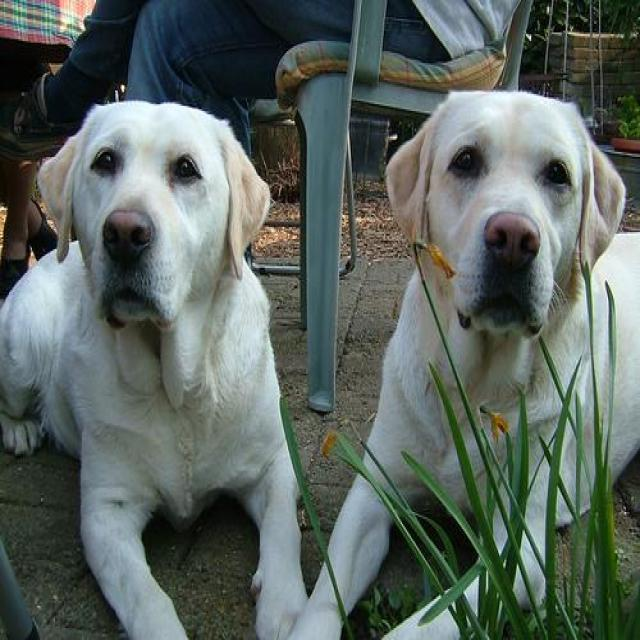adult_dog: (299, 88, 640, 633), (1, 95, 318, 632)
